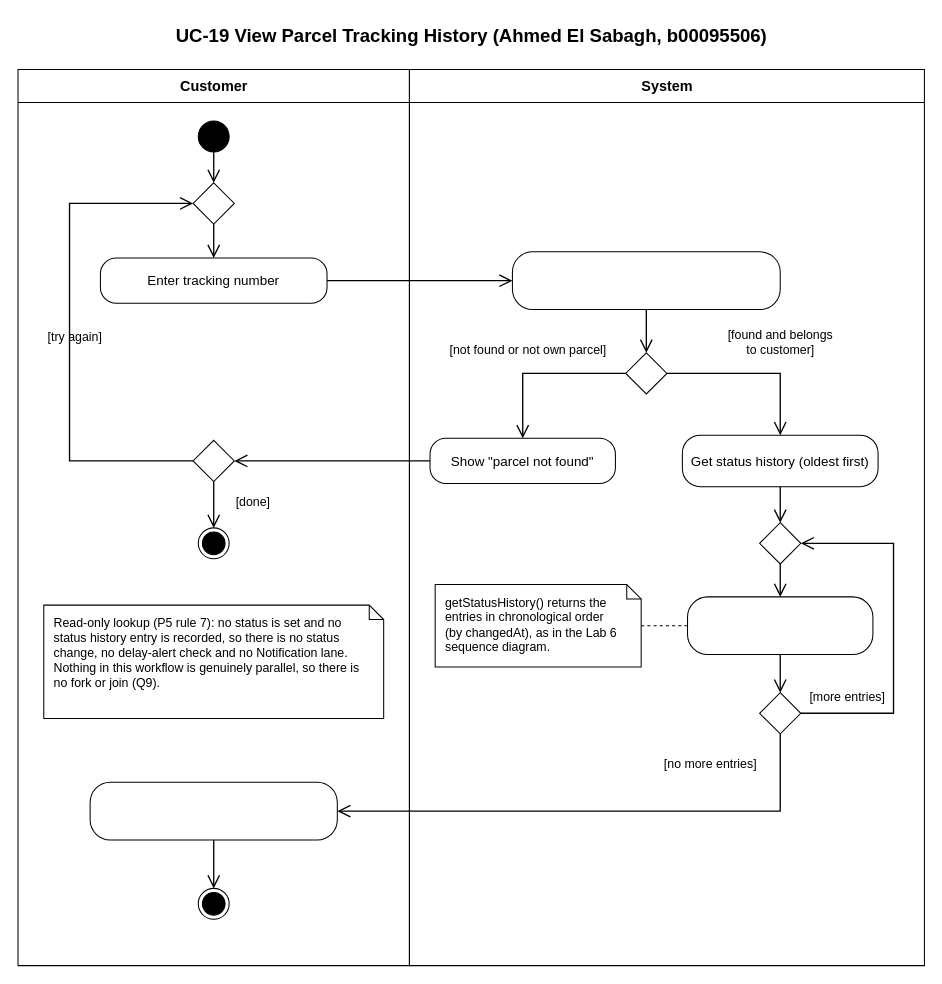
Some shapes in this 942 by 984 pixel diagram are drawn without their labels. Each missing label, with the centre of its shape:
"Find the parcel in the customer's own parcels (viewMyParcels)" belongs at (645,280).
"Get next entry's transition text (getTransition)" belongs at (779,625).
"View full status history (status, date/time, location or staff)" belongs at (213,810).
